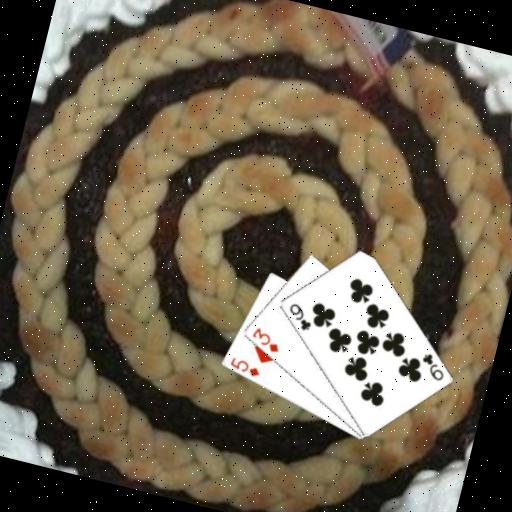3D: (246, 323, 285, 355)
5D: (226, 354, 264, 380)
9C: (281, 299, 317, 334), (415, 349, 450, 384)
